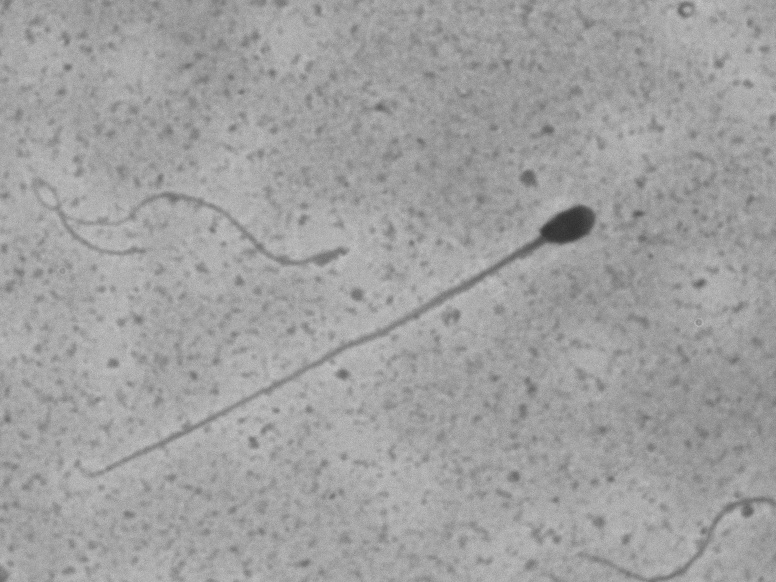Abnormal: (73, 180, 622, 500)
